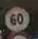limite 60: (3, 4, 30, 33)
